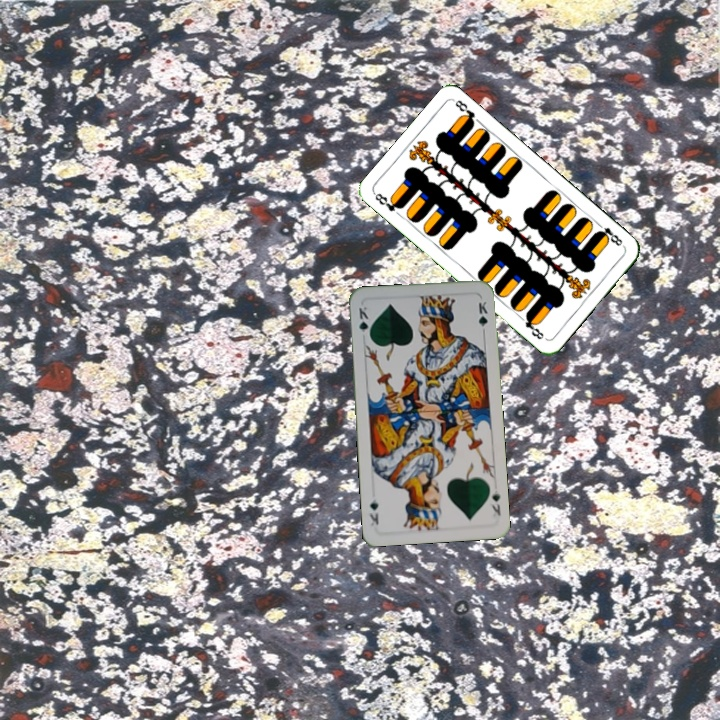E8: (593, 219, 625, 249), (370, 189, 406, 214)
GK: (355, 303, 373, 342), (487, 486, 503, 518)
